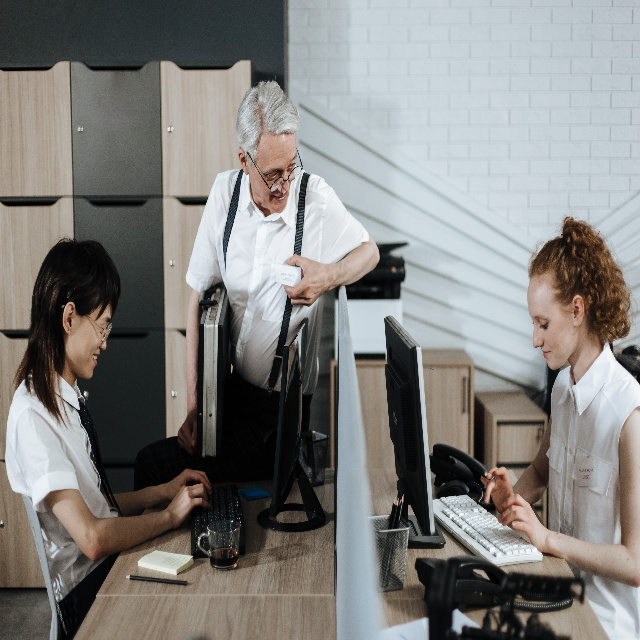Gafas: (247, 147, 303, 192), (85, 311, 112, 348)
Sin_guantes: (497, 491, 548, 552), (284, 254, 334, 308), (168, 482, 210, 529), (480, 464, 515, 515), (167, 467, 213, 503), (177, 409, 199, 459)
